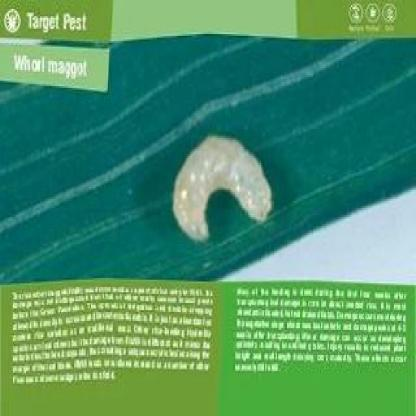whorl-maggot: (164, 128, 278, 242)
